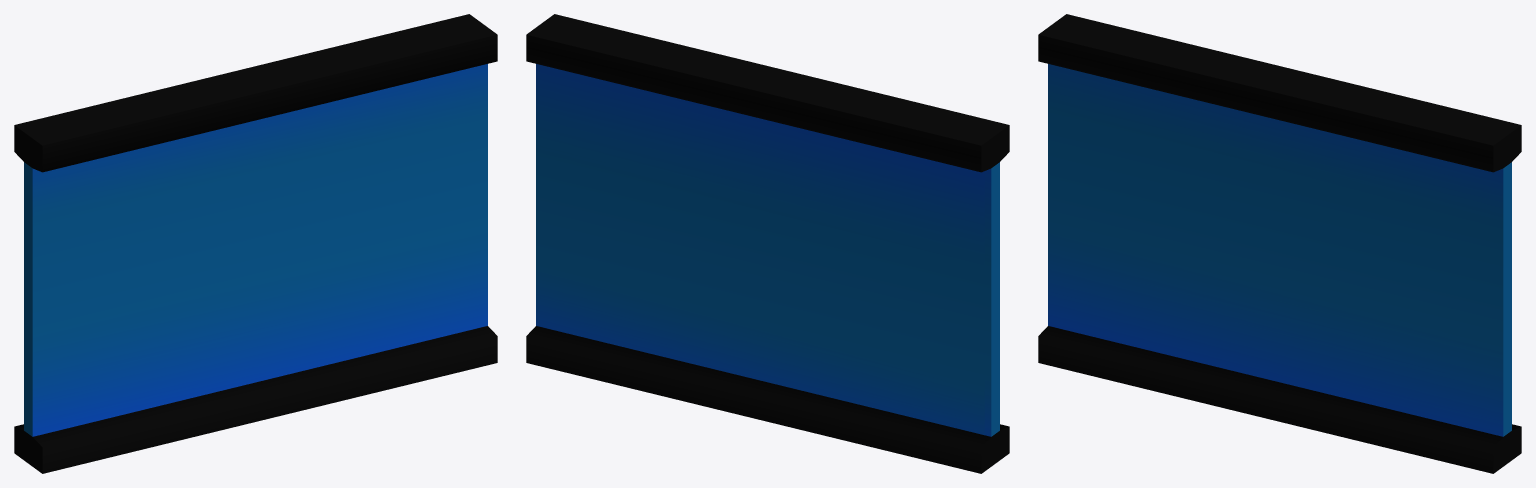
Rendered from Blockade.fbx.
3 views of the same model, side by side, from view 1: azimuth 30°, elevation 25°; view 2: azimuth 150°, elevation 25°; view 3: azimuth 330°, elevation 25° (orthographic).
Visible parts, largest first — view 1: Blockade; view 2: Blockade; view 3: Blockade.
Boxes of the visible parts, x1=… form: Blockade: x1=14, y1=14, x2=497, y2=473; Blockade: x1=526, y1=14, x2=1009, y2=473; Blockade: x1=1038, y1=14, x2=1521, y2=473.
Size of the model in its own units: 630 by 434 by 67.77.
1 material, 1 textured.
